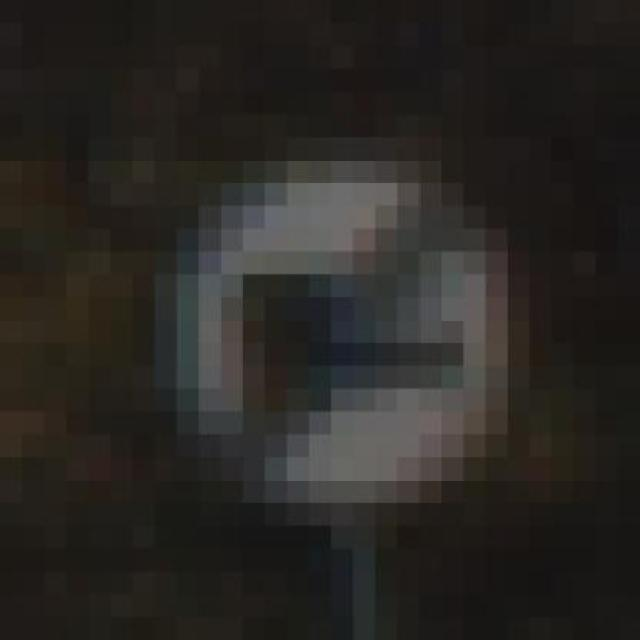Overtaking by trucks is prohibited: (132, 114, 552, 526)
